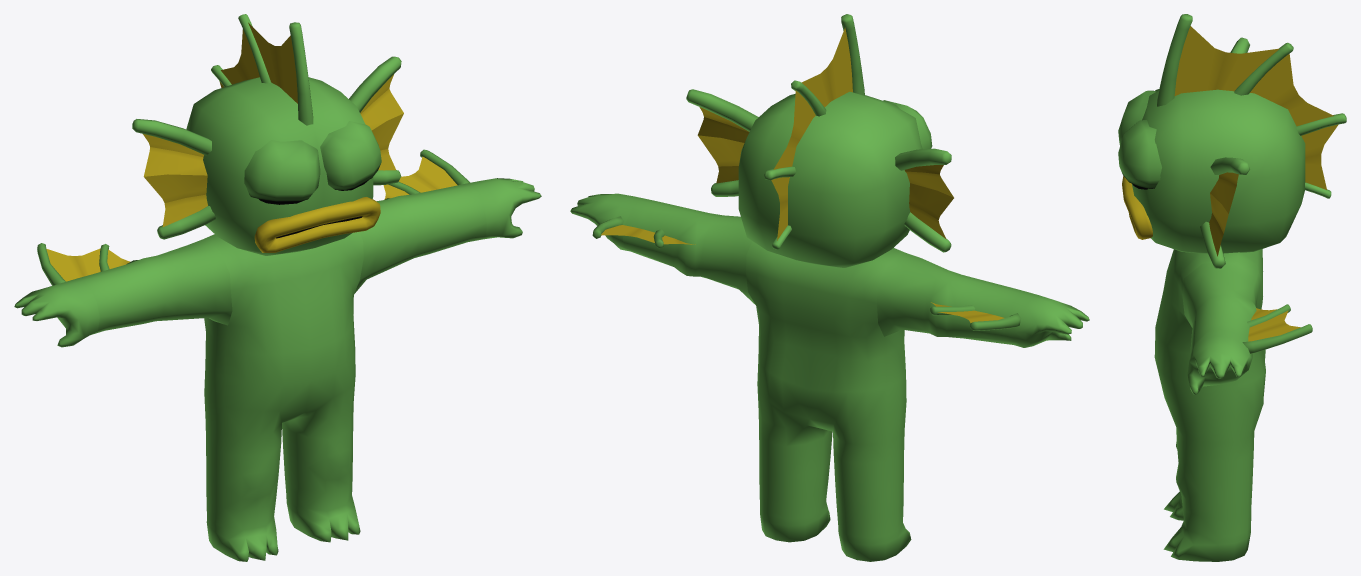
File: mdlFishFBX.fbx
The picture shows the model from 3 angles, left to right: view 1: azimuth 30°, elevation 25°; view 2: azimuth 150°, elevation 25°; view 3: azimuth 270°, elevation 25°; orthographic projection.
Visible parts, largest first — view 1: Cube; view 2: Cube; view 3: Cube.
Boxes of the visible parts, <box> form: Cube: <box>14,14,541,561</box>; Cube: <box>570,14,1089,561</box>; Cube: <box>1118,14,1346,561</box>.
Size of the model in its own units: 8.38 by 8.13 by 3.26.
